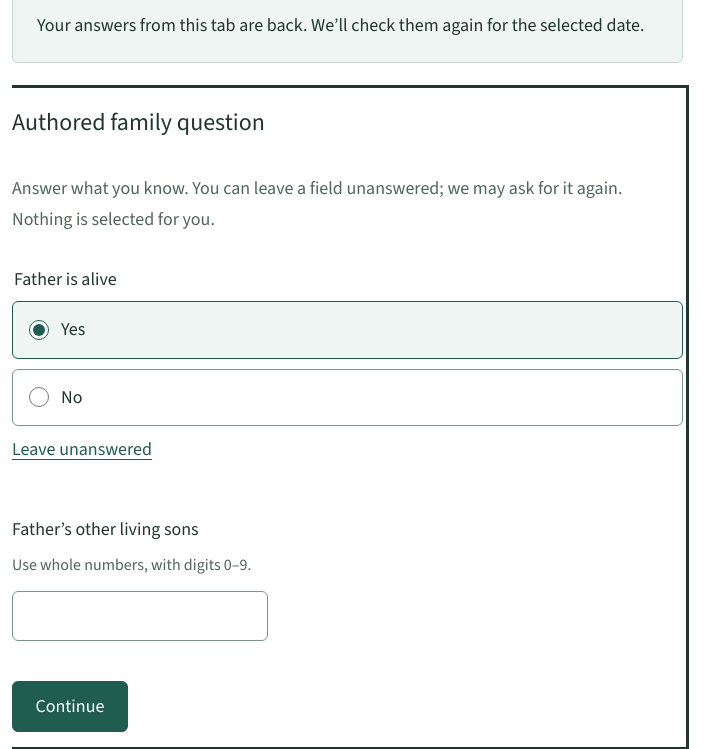
hydration, native fields and semantic progression › omitting a prefilled field removes it and its downstream branch
(page scrolled)
Expected: the heading "Authored family question" is shown, [12, 106, 265, 138]
Click the button with aria-label "Leave unanswered: Father is alive": (82, 450) [12, 426, 152, 474]
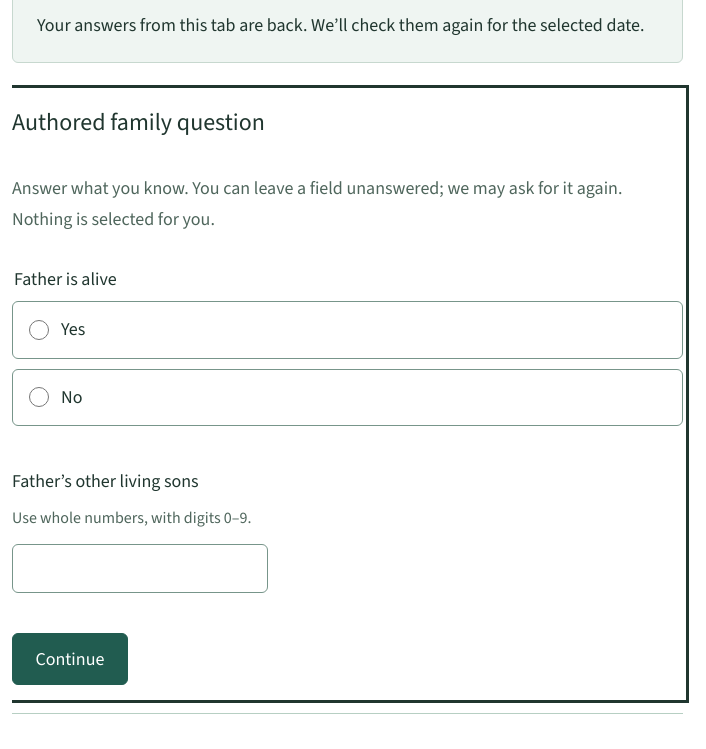
In the field labelled "Father’s other living sons": (140, 569) [12, 544, 268, 593], type "2"
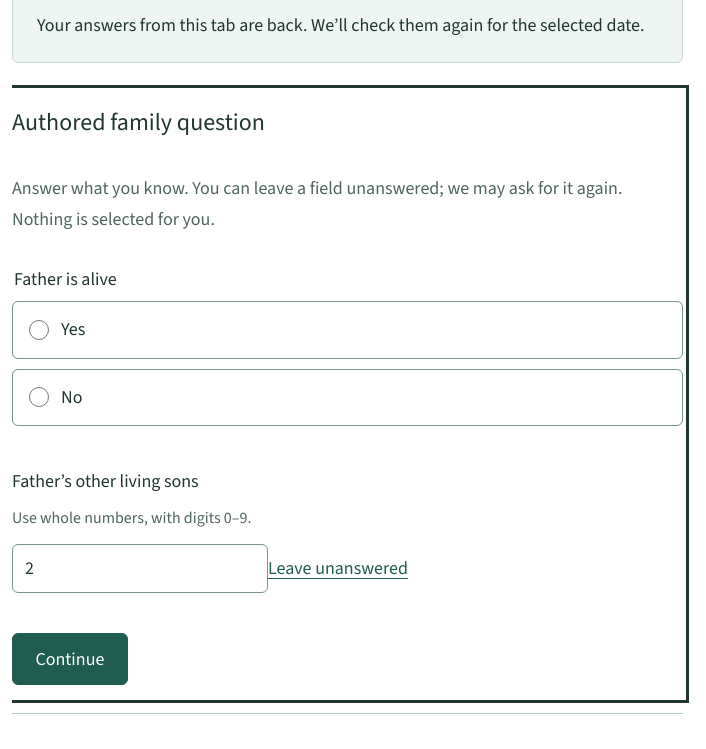
Click the button "Continue": (70, 659) [12, 633, 128, 685]
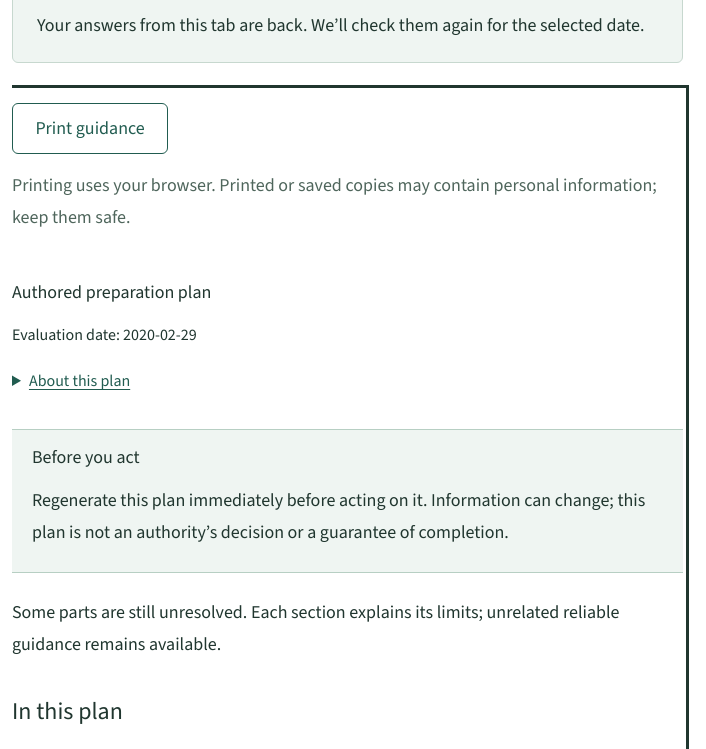
Now the text "Authored preparation plan" is shown, box [12, 280, 211, 304]
